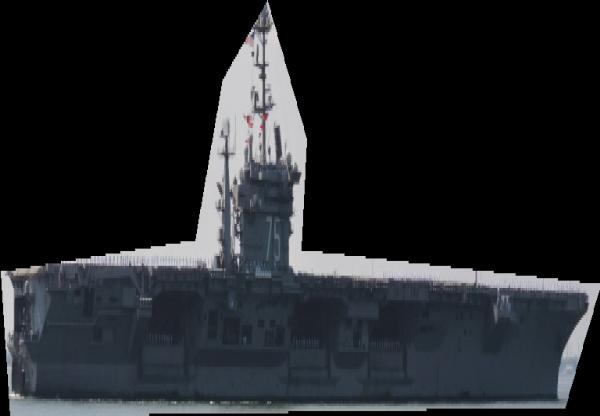Aircraft Carrier: (1, 1, 600, 416)
